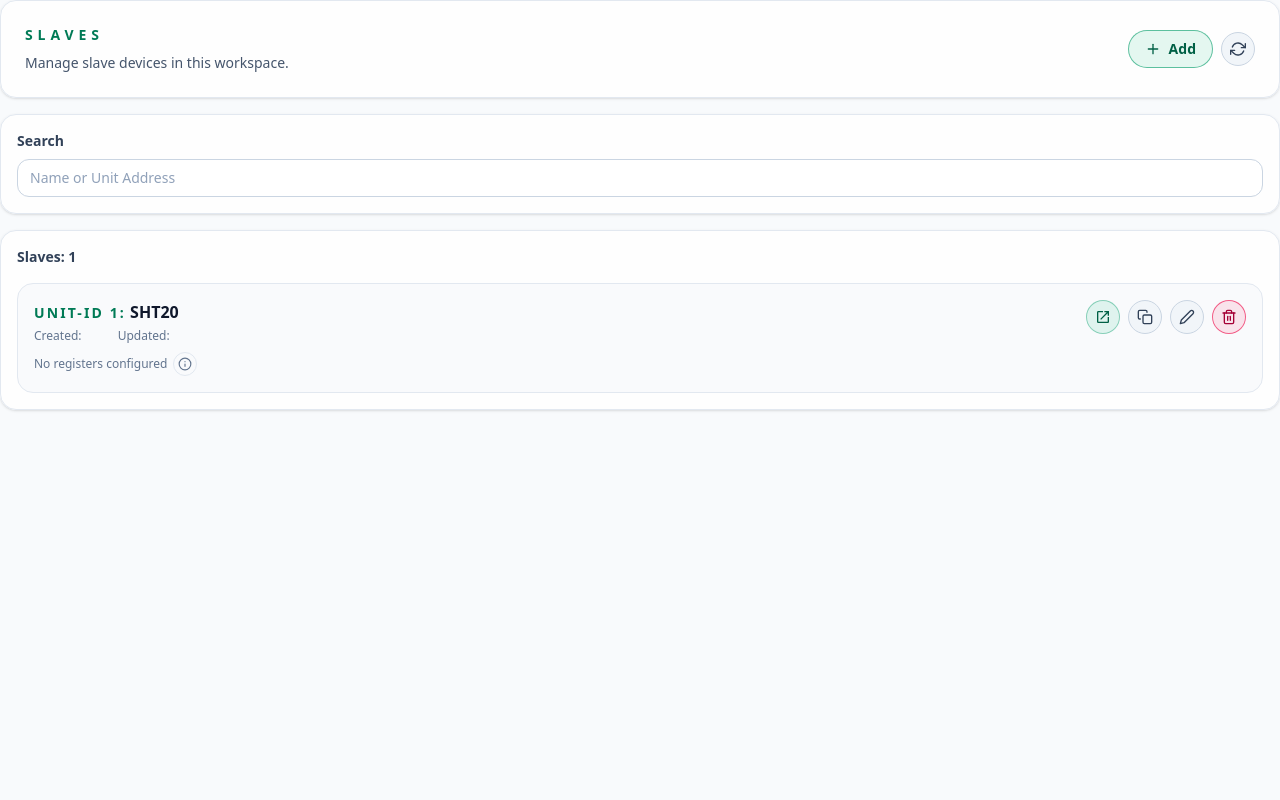
Test: SlavesPage › clones a slave through the backend and reports success
The image size is (1280, 800).
What coordinates should you click on to do the following:
click the button named "clone"
I would click on:
 (1145, 317)
Its box is [1128,300,1162,334].
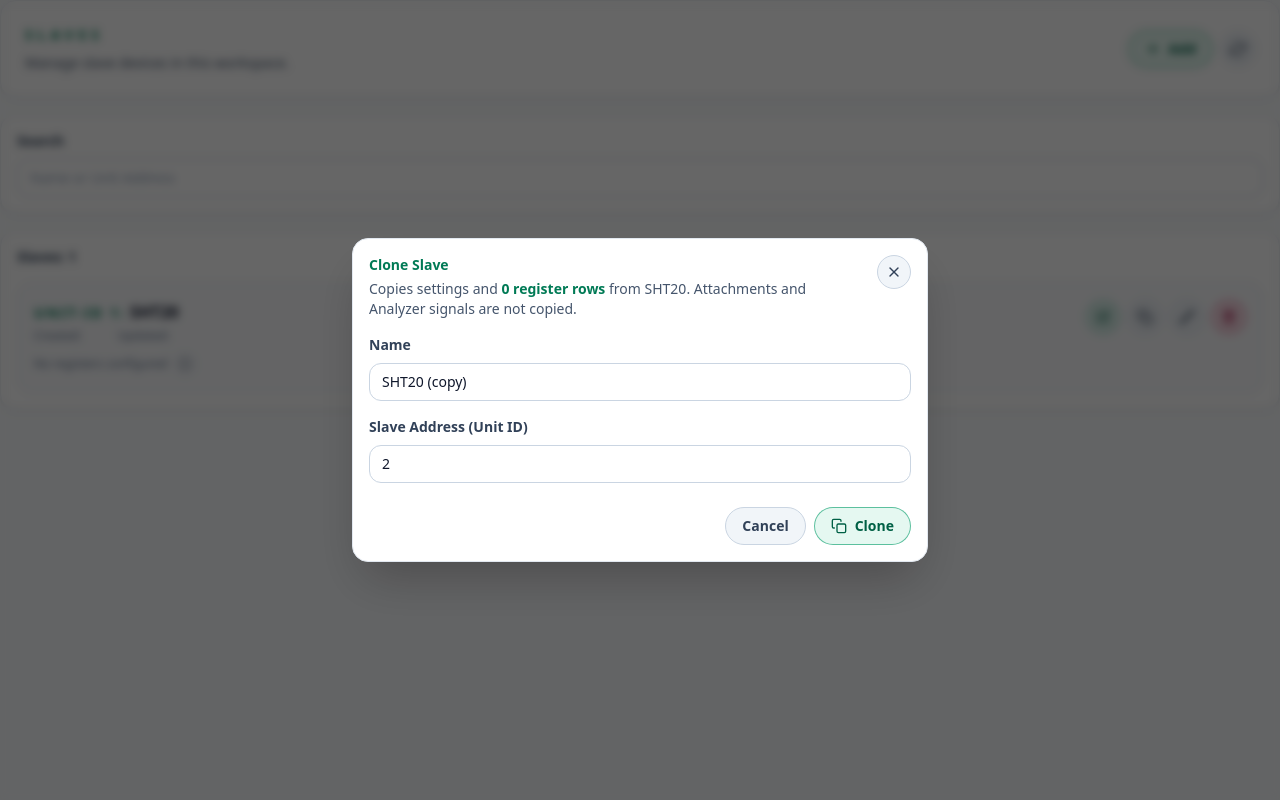
What coordinates should you click on to do the following:
click the button "Clone"
I would click on:
 (862, 526)
Its box is [814,507,911,545].
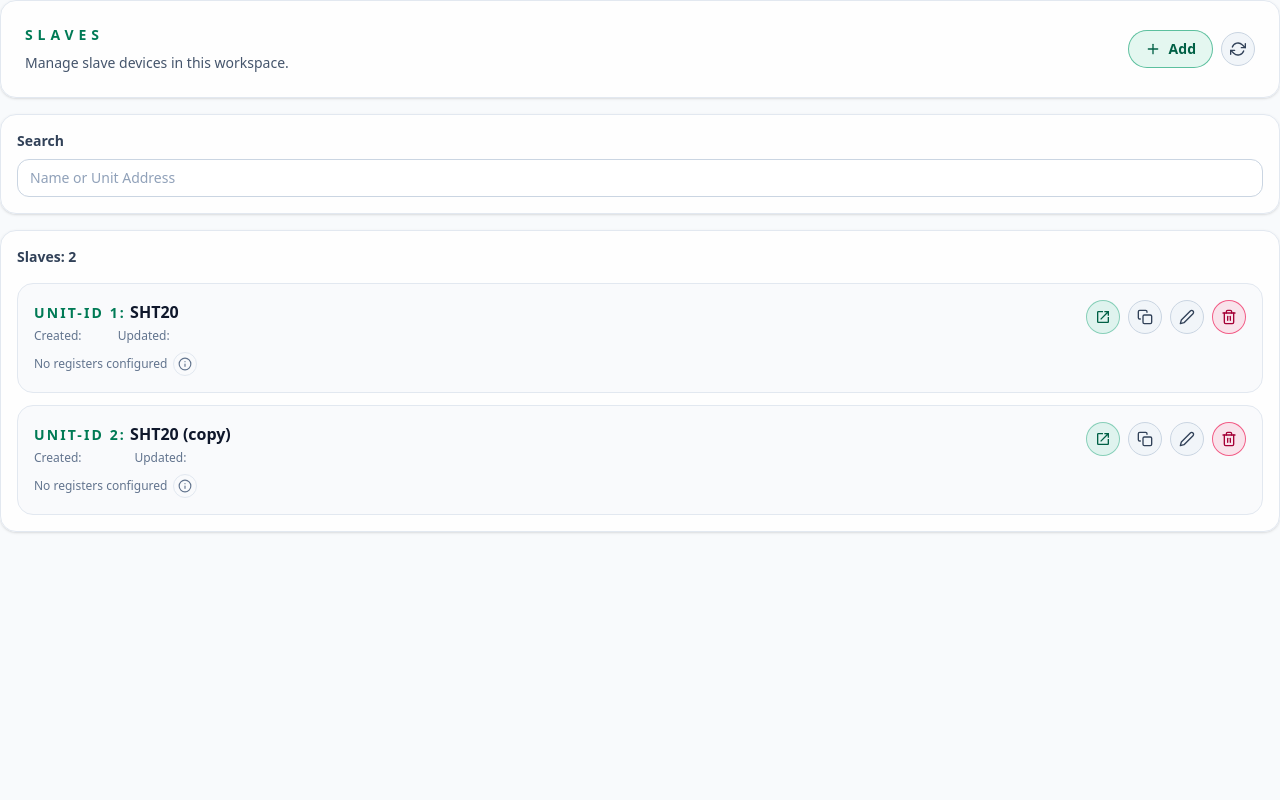
Result: the button "Unit-ID 2: SHT20 (copy)" is shown at [34,422,231,446]
